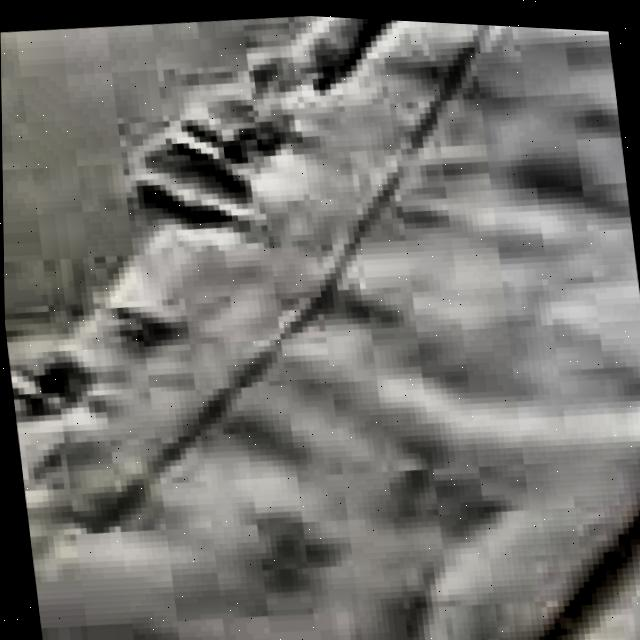paper: (6, 12, 640, 640)
